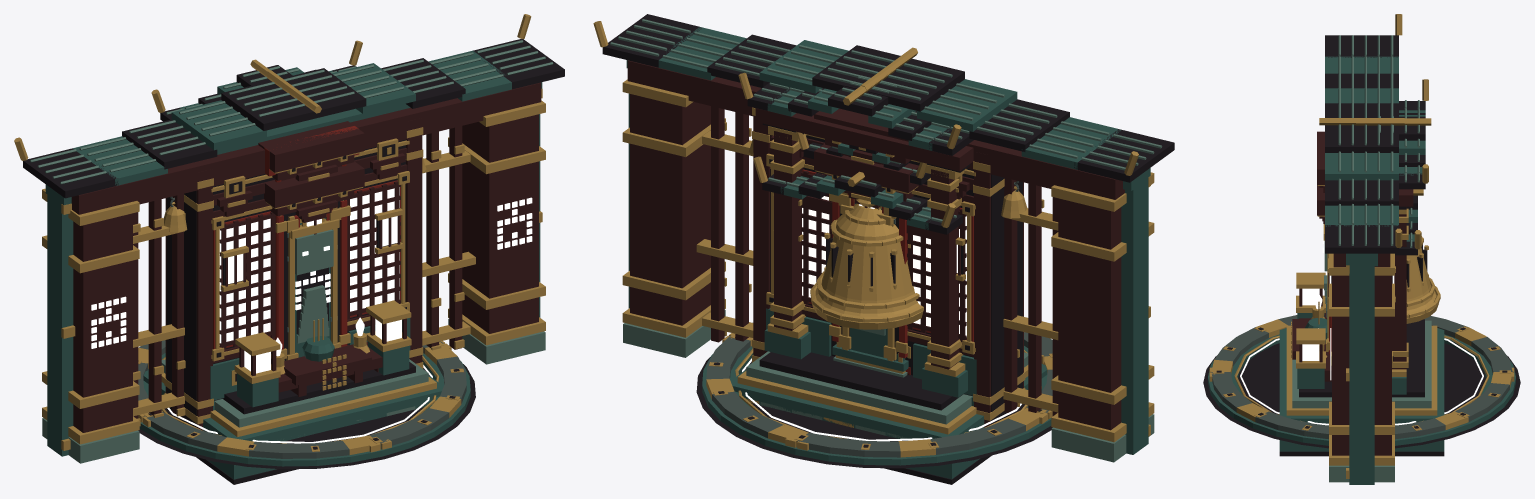
The model's file is veilhaven-kit.glb.
3 views of the same model, side by side, from view 1: azimuth 30°, elevation 25°; view 2: azimuth 150°, elevation 25°; view 3: azimuth 270°, elevation 25° (orthographic). The views are drawn at different scales.
Parts seen in each view (by area): view 1: arch-stone, wall-stone, bell-shrine-stone, gate-leaf, portal-plinth-stone, guardian-stone, gate-stone, alcove-stone, wall-glow, pillar-stone, landmark-stone, arch-glow (+4 smaller); view 2: arch-stone, bell-shrine-stone, wall-stone, gate-leaf, portal-plinth-stone, gate-stone, guardian-stone, landmark-stone, alcove-stone, wall-glow, pool-stone, pillar-stone (+1 smaller); view 3: arch-stone, bell-shrine-stone, portal-plinth-stone, gate-stone, landmark-stone, pool-stone, guardian-stone, portal-plinth-glow, bell-shrine-glow, pillar-stone.
Boxes of the visible parts, x1,y1,x2,y2 form: arch-stone: [14, 14, 564, 463]; wall-stone: [164, 118, 423, 430]; bell-shrine-stone: [143, 40, 443, 443]; gate-leaf: [133, 126, 475, 426]; portal-plinth-stone: [138, 340, 475, 469]; guardian-stone: [264, 161, 364, 360]; gate-stone: [45, 82, 542, 456]; alcove-stone: [165, 138, 408, 427]; wall-glow: [219, 187, 399, 343]; pillar-stone: [258, 121, 364, 331]; landmark-stone: [271, 318, 382, 392]; arch-glow: [91, 197, 532, 348]; arch-stone: [593, 14, 1174, 462]; bell-shrine-stone: [730, 69, 1047, 440]; wall-stone: [752, 107, 1025, 427]; gate-leaf: [696, 106, 1058, 415]; portal-plinth-stone: [696, 322, 1052, 468]; gate-stone: [626, 60, 1150, 454]; guardian-stone: [814, 143, 918, 377]; landmark-stone: [753, 131, 962, 238]; alcove-stone: [767, 135, 1023, 419]; wall-glow: [802, 196, 966, 336]; pool-stone: [745, 398, 991, 484]; pillar-stone: [814, 108, 910, 164]; arch-stone: [1319, 14, 1404, 482]; bell-shrine-stone: [1279, 79, 1444, 425]; portal-plinth-stone: [1203, 315, 1520, 448]; gate-stone: [1346, 253, 1377, 484]; landmark-stone: [1299, 189, 1423, 381]; pool-stone: [1279, 440, 1444, 456]; guardian-stone: [1317, 185, 1406, 354]; portal-plinth-glow: [1240, 338, 1483, 425]; bell-shrine-glow: [1302, 288, 1319, 360]; pillar-stone: [1317, 131, 1331, 350].
Size of the model in its own units: 9.14 by 5.69 by 5.6.
